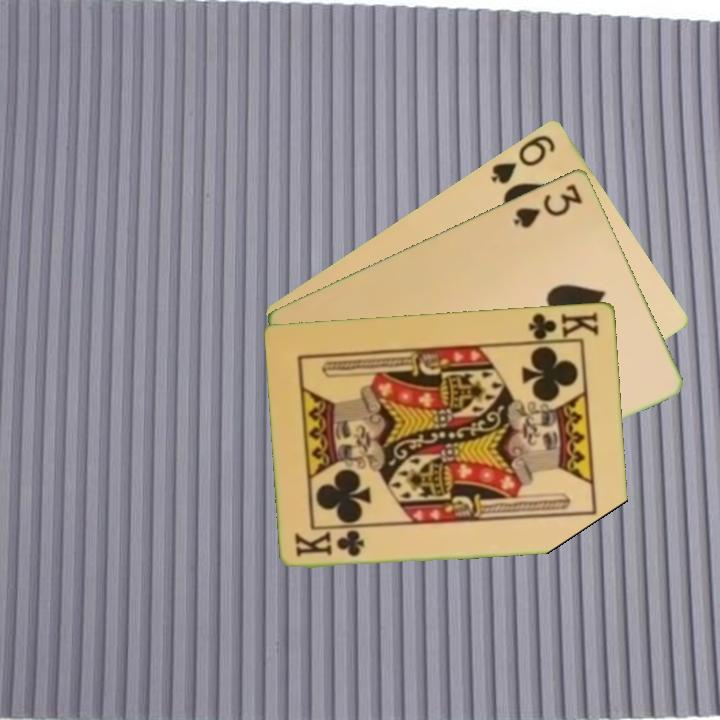3s: (510, 180, 585, 231)
6s: (487, 130, 559, 187)
Kc: (522, 307, 602, 344), (292, 527, 368, 559)
